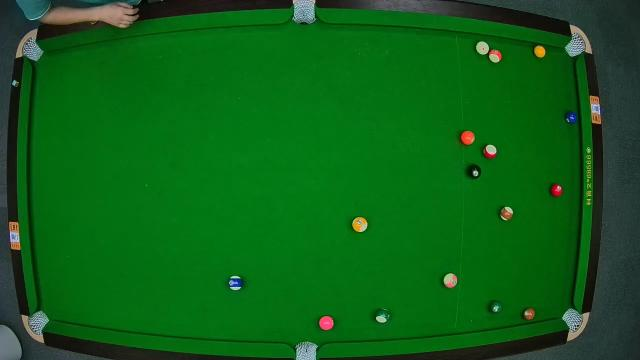bag1: (24, 40, 40, 62)
bag2: (292, 2, 316, 22)
bag3: (566, 34, 584, 56)
bag4: (27, 310, 49, 336)
bag5: (295, 342, 319, 360)
bag6: (562, 308, 584, 332)
ball0: (474, 40, 492, 56)
ball1: (533, 43, 547, 60)
ball10: (227, 276, 245, 292)
ball11: (482, 144, 500, 160)
ball12: (443, 272, 459, 288)
ball13: (488, 50, 504, 63)
ball14: (373, 308, 391, 324)
ball15: (500, 204, 514, 222)
ball2: (565, 110, 579, 126)
ball3: (550, 182, 564, 198)
ball4: (318, 314, 334, 332)
ball5: (460, 127, 476, 146)
ball6: (488, 300, 504, 314)
ball7: (523, 304, 535, 320)
ball8: (464, 164, 484, 178)
ball9: (352, 216, 368, 234)
